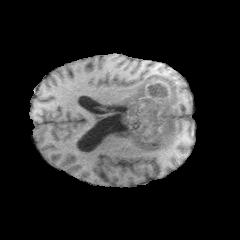glioma: (113, 73, 181, 152)
